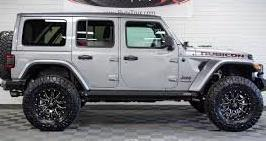Cars: (1, 13, 264, 132)
SUV: (1, 13, 265, 132)
